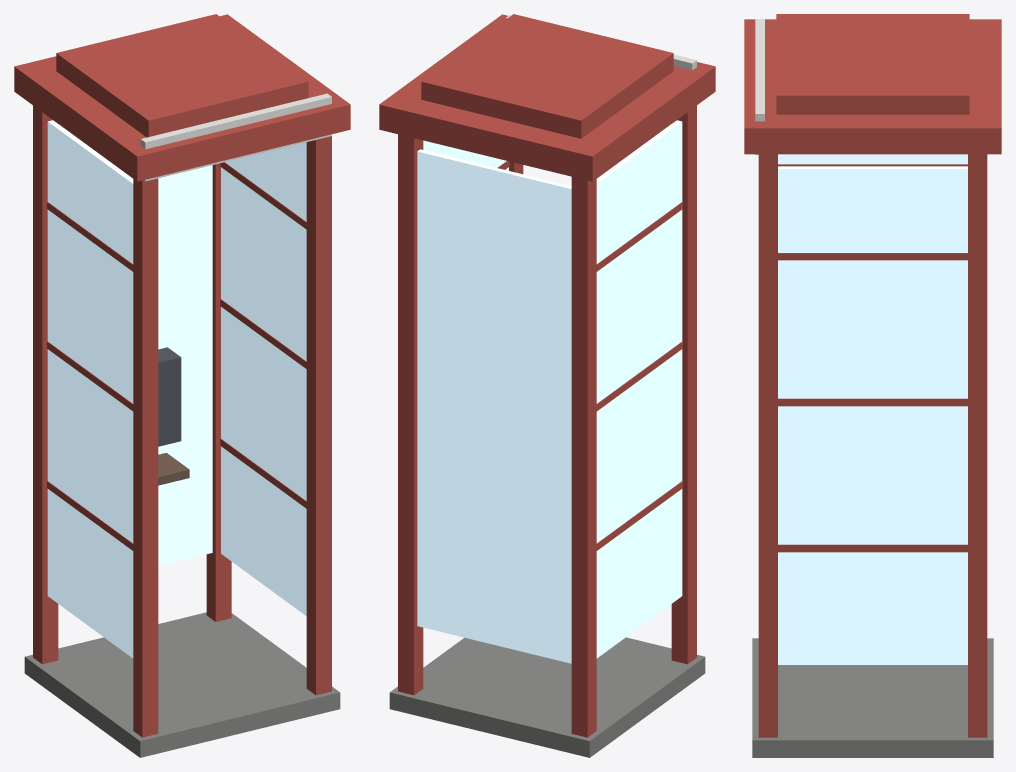
Rendered from prop_denwa_box.glb.
3 views of the same model, side by side, from view 1: azimuth 30°, elevation 25°; view 2: azimuth 150°, elevation 25°; view 3: azimuth 270°, elevation 25° (orthographic). The views are drawn at different scales.
Visible parts, largest first — view 1: denwa_box; view 2: denwa_box; view 3: denwa_box.
Part boxes in pixels (box(x1,y1,x2,y2)): denwa_box: box(14, 14, 350, 757); denwa_box: box(379, 14, 715, 757); denwa_box: box(744, 14, 1001, 757).
Size of the model in its own units: 1.6 by 4.47 by 1.6.
